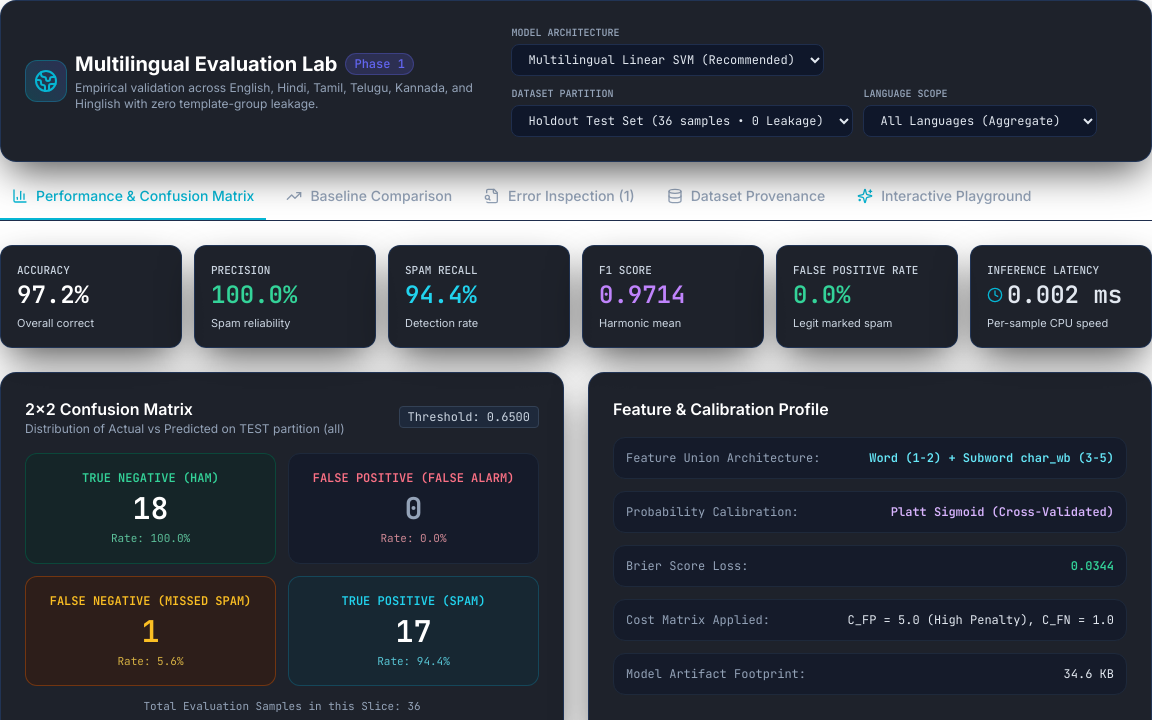
Test case: EvaluationLabView Component › allows switching to Error Inspection tab and displays false negatives and details
The width and height of the screenshot is (1152, 720).
expect the text "97.2%" is shown: met, box [17, 278, 89, 310]
What coordinates should you click on to do the following:
click the button "Error Inspection (1)"
I would click on:
 (559, 203)
Its box is [472, 186, 647, 220].
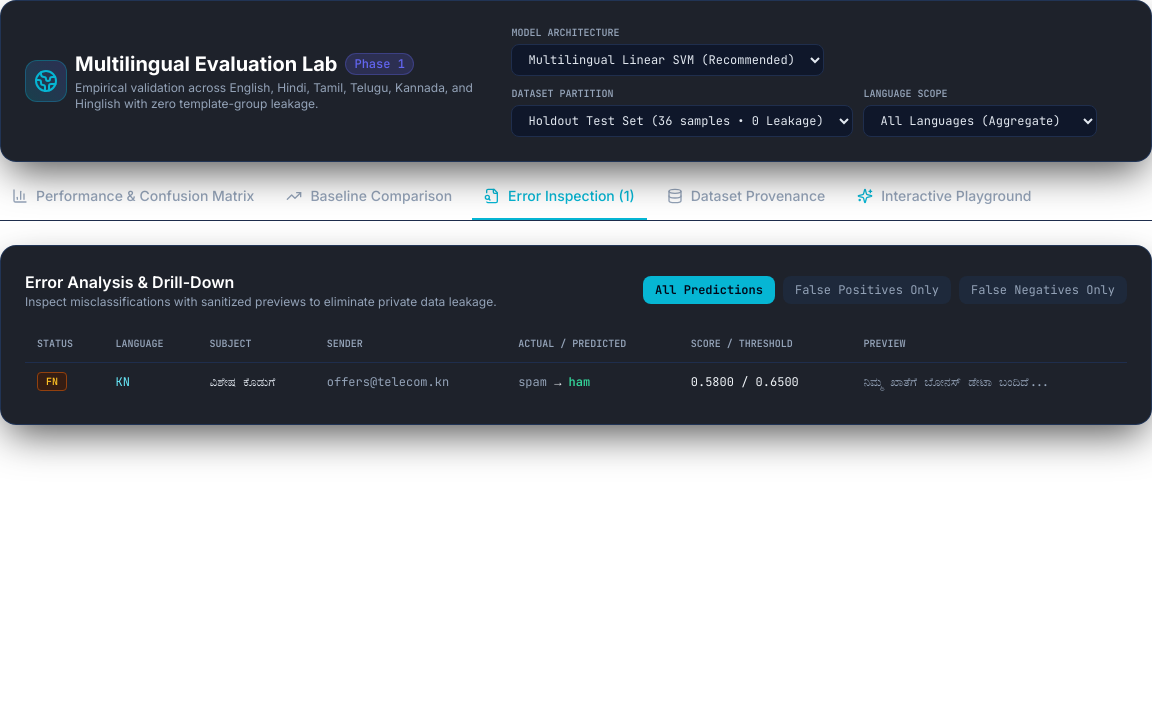
expect the text "FN" is shown: met, box [37, 372, 67, 391]
expect the text "ವಿಶೇಷ ಕೊಡುಗೆ" is shown: met, box [198, 362, 315, 400]
expect the text "ನಿಮ್ಮ ಖಾತೆಗೆ ಬೋನಸ್ ಡೇಟಾ ಬಂದಿದೆ..." is shown: met, box [851, 362, 1127, 400]
